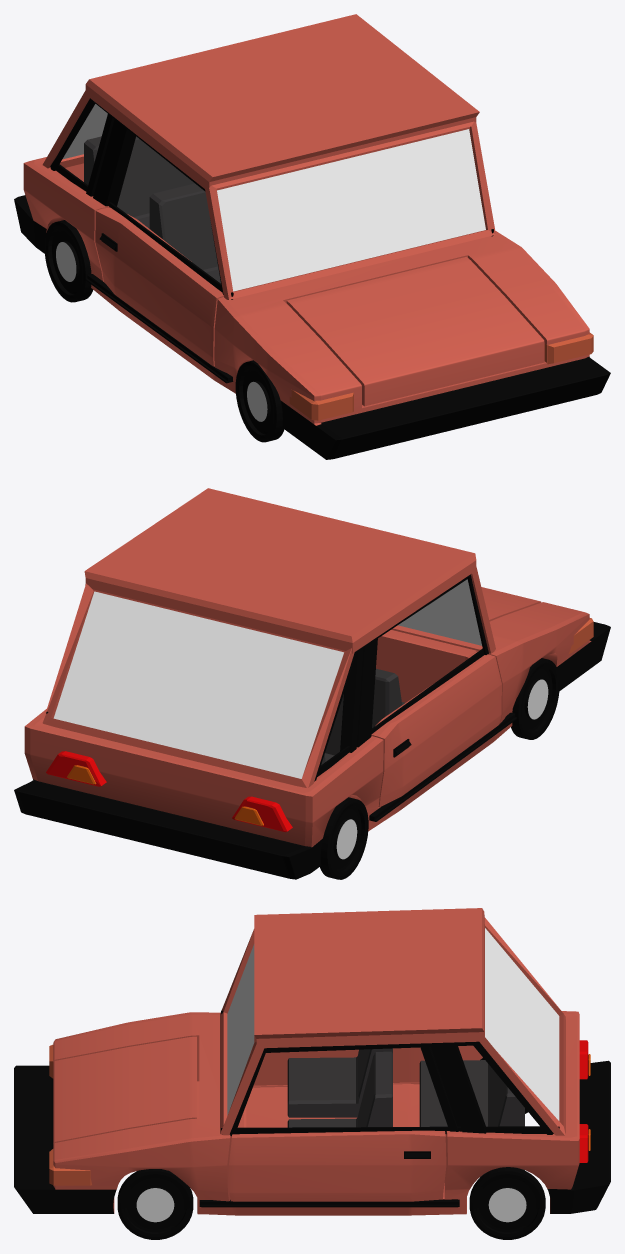
File: Car.glb
The picture shows the model from 3 angles, top to bottom: view 1: azimuth 30°, elevation 25°; view 2: azimuth 150°, elevation 25°; view 3: azimuth 270°, elevation 25°; orthographic projection. The views are drawn at different scales.
Visible parts, largest first — view 1: Cube, Cube.002, Plane.001, Cube.004, Cube.009, Cylinder, Cube.001, Cylinder.001; view 2: Cube.002, Cube, Plane.001, Cube.004, Cylinder, Cube.003, Cube.009, Cylinder.001, Cube.006; view 3: Cube, Cube.002, Cube.004, Cube.009, Plane.001, Cylinder, Cylinder.001, Cube.001, Cube.003.
Part boxes in pixels (x1,y1,x2,y2): Cube: (23,157,589,425); Cube.002: (42,14,495,299); Plane.001: (62,104,485,291); Cube.004: (14,98,610,459); Cube.009: (84,136,220,283); Cylinder: (44,220,284,442); Cube.001: (289,332,593,420); Cylinder.001: (56,242,267,421); Cube.002: (42,488,495,787); Cube: (24,587,591,847); Plane.001: (53,579,481,778); Cube.004: (14,574,610,879); Cylinder: (320,658,559,879); Cube.003: (46,751,292,832); Cube.009: (321,668,404,764); Cylinder.001: (336,679,548,859); Cube.006: (67,765,263,825); Cube: (53,1011,579,1215); Cube.002: (220,908,565,1135); Cube.004: (14,1010,610,1213); Cube.009: (287,1048,524,1177); Plane.001: (227,928,559,1120); Cylinder: (117,1058,545,1239); Cylinder.001: (136,1188,526,1222); Cube.001: (49,1044,91,1185); Cube.003: (579,1040,588,1162).
Size of the model in its own units: 2.61 by 1.91 by 4.93.
